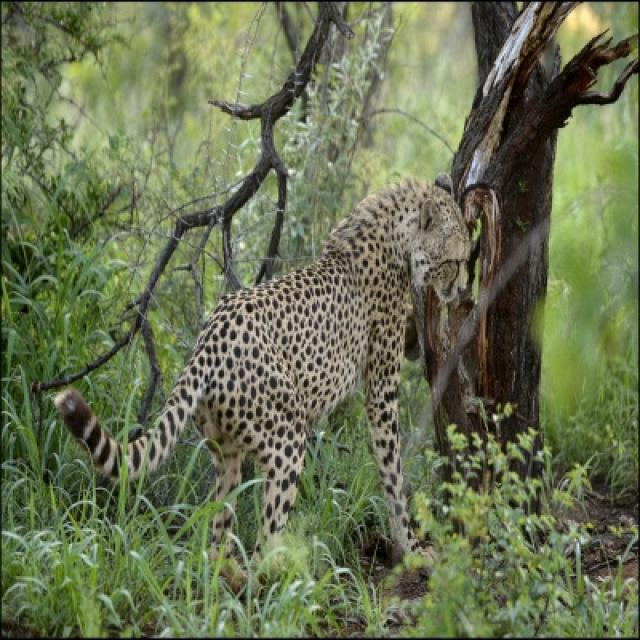Cheetah: (56, 181, 478, 565)
